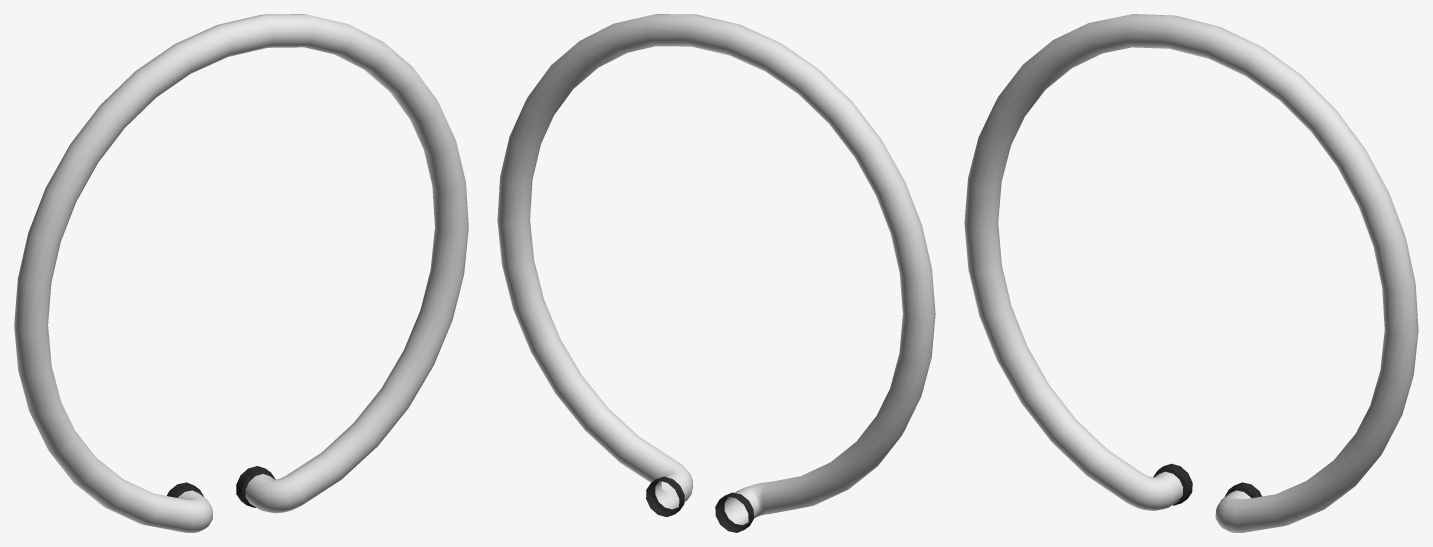
The model's file is LettersNeon01_O.FBX.
The picture shows the model from 3 angles, left to right: view 1: azimuth 30°, elevation 25°; view 2: azimuth 150°, elevation 25°; view 3: azimuth 330°, elevation 25°; orthographic projection. The views are drawn at different scales.
Visible parts, largest first — view 1: LettersNeon01_O; view 2: LettersNeon01_O; view 3: LettersNeon01_O.
Part boxes in pixels (x1,y1,x2,y2): LettersNeon01_O: (14, 14, 468, 532); LettersNeon01_O: (497, 14, 935, 532); LettersNeon01_O: (964, 14, 1418, 532).
Size of what is drawn, in the model's own units: 0.4613 by 0.4958 by 0.054.
